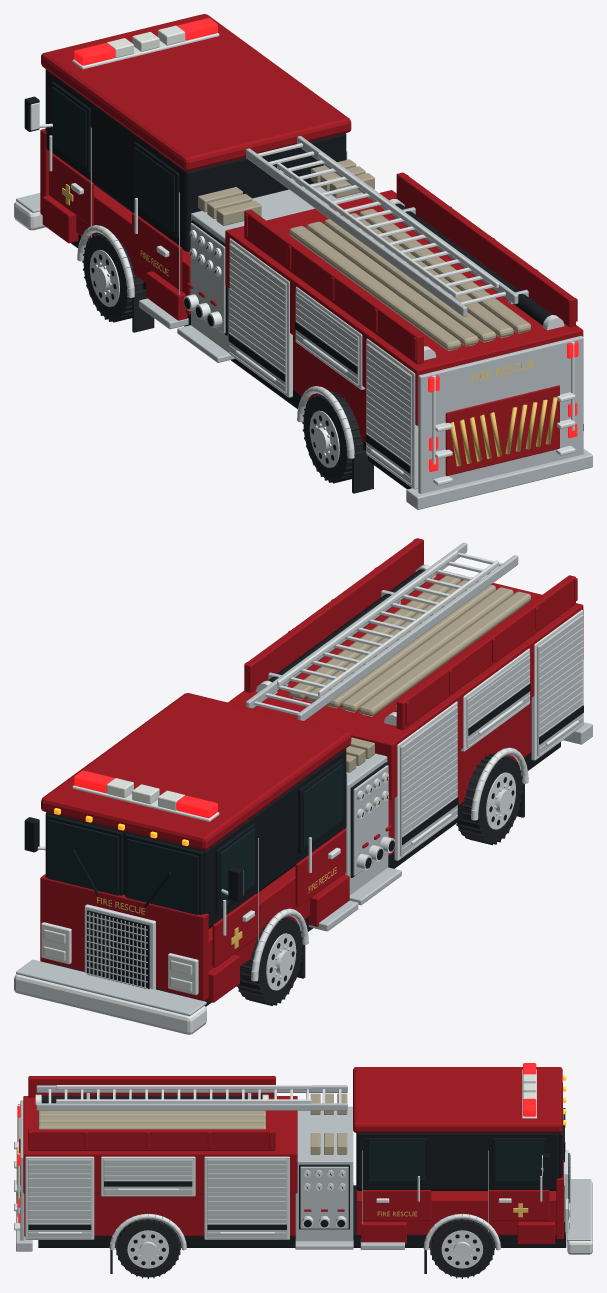
Rendered from generic-pumper.glb.
3 views of the same model, one above another, from view 1: azimuth 30°, elevation 25°; view 2: azimuth 150°, elevation 25°; view 3: azimuth 270°, elevation 25° (orthographic). The views are drawn at different scales.
Visible parts, largest first — view 1: Body_Rescue_red, Body_Brushed_aluminum, Body_Polished_metal, Body_Cab_black, Body_Woven_hose, Body_Blue_black_glazing, Wheel_RL, Wheel_FL, Body_Generic_gold_lettering, Body_White_lamps_and_gauge_faces, Body_Tire_rubber, Beacon_L; view 2: Body_Rescue_red, Body_Brushed_aluminum, Body_Polished_metal, Body_Cab_black, Body_Blue_black_glazing, Body_Woven_hose, Wheel_RL, Wheel_FL, Body_White_lamps_and_gauge_faces, Beacon_L; view 3: Body_Rescue_red, Body_Brushed_aluminum, Body_Polished_metal, Body_Cab_black, Body_Woven_hose, Body_Blue_black_glazing, Wheel_RR, Wheel_FR, Body_White_lamps_and_gauge_faces, Body_Generic_gold_lettering.
Part boxes in pixels (<box>): Body_Rescue_red: <box>40,14,583,476</box>; Body_Brushed_aluminum: <box>16,128,592,509</box>; Body_Polished_metal: <box>14,32,575,489</box>; Body_Cab_black: <box>24,69,583,489</box>; Body_Woven_hose: <box>198,159,530,350</box>; Body_Blue_black_glazing: <box>51,86,174,231</box>; Wheel_RL: <box>302,391,363,483</box>; Wheel_FL: <box>82,233,143,322</box>; Body_Generic_gold_lettering: <box>62,184,557,466</box>; Body_White_lamps_and_gauge_faces: <box>107,25,218,275</box>; Body_Tire_rubber: <box>132,289,373,493</box>; Beacon_L: <box>74,43,115,65</box>; Body_Rescue_red: <box>40,538,583,1002</box>; Body_Brushed_aluminum: <box>16,542,592,1016</box>; Body_Polished_metal: <box>14,550,583,1034</box>; Body_Cab_black: <box>24,569,583,1006</box>; Body_Blue_black_glazing: <box>47,763,343,914</box>; Body_Woven_hose: <box>289,575,530,772</box>; Wheel_RL: <box>456,753,523,845</box>; Wheel_FL: <box>236,917,303,1005</box>; Body_White_lamps_and_gauge_faces: <box>43,774,388,991</box>; Beacon_L: <box>176,795,217,818</box>; Body_Rescue_red: <box>19,1067,563,1244</box>; Body_Brushed_aluminum: <box>16,1085,591,1251</box>; Body_Polished_metal: <box>14,1069,592,1254</box>; Body_Cab_black: <box>28,1096,569,1247</box>; Body_Woven_hose: <box>38,1093,347,1154</box>; Body_Blue_black_glazing: <box>368,1083,562,1181</box>; Wheel_RR: <box>115,1219,180,1278</box>; Wheel_FR: <box>429,1219,494,1278</box>; Body_White_lamps_and_gauge_faces: <box>304,1074,570,1229</box>; Body_Generic_gold_lettering: <box>16,1147,528,1217</box>.
Size of the model in its own units: 3.18 by 3.22 by 10.41.
